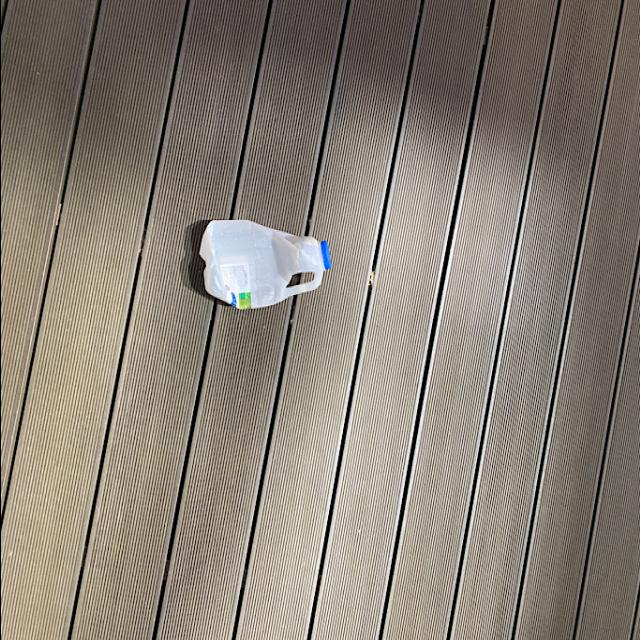litter: (198, 218, 330, 312)
